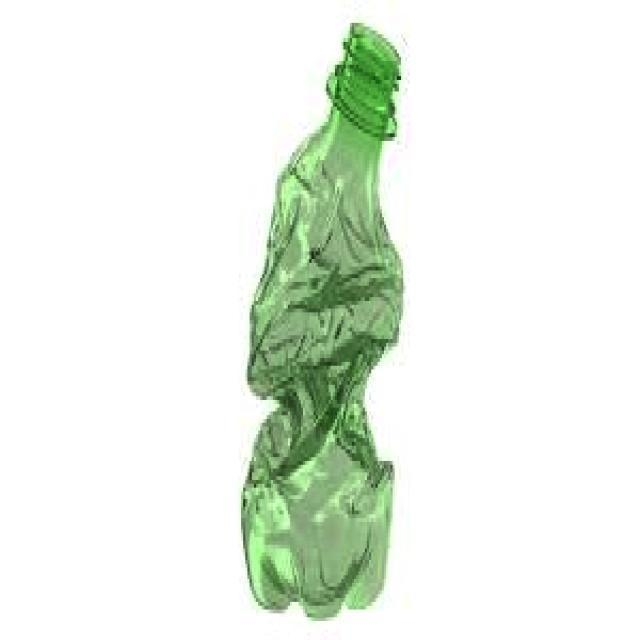defected: (233, 13, 413, 618)
